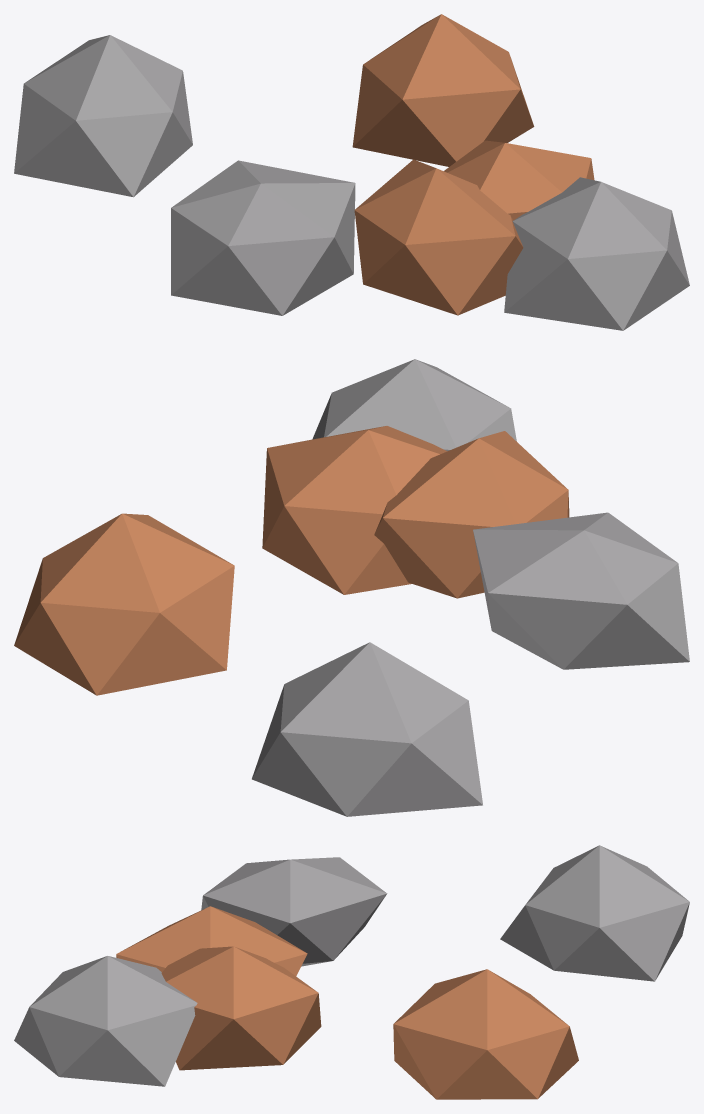
File: jazida_ferro.glb
The picture shows the model from 3 angles, top to bottom: view 1: azimuth 30°, elevation 25°; view 2: azimuth 150°, elevation 25°; view 3: azimuth 270°, elevation 25°; orthographic projection. The views are drawn at different scales.
Parts seen in each view (by area): view 1: jazida_ferro; view 2: jazida_ferro; view 3: jazida_ferro.
Part boxes in pixels (left/top/right/bottom): jazida_ferro: left=14, top=14, right=689, bottom=330; jazida_ferro: left=14, top=359, right=689, bottom=816; jazida_ferro: left=14, top=845, right=689, bottom=1099.
Bounding box in the file's own units: 0.3862 × 0.1166 × 0.548.
